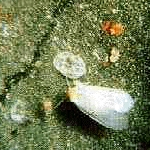whitefly: (53, 69, 135, 133)
